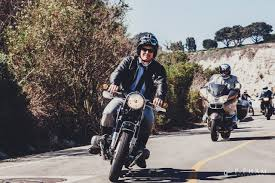helmet: (133, 30, 157, 60), (215, 61, 232, 79)
